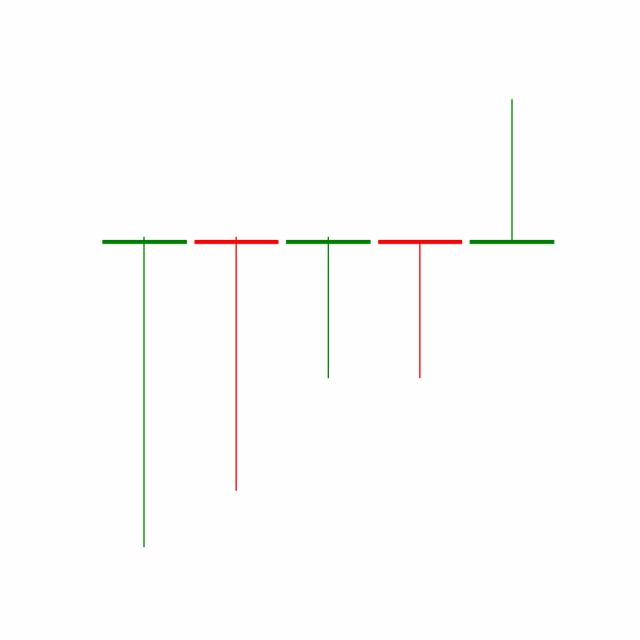Dragonfly Doji: (373, 238, 467, 380)
